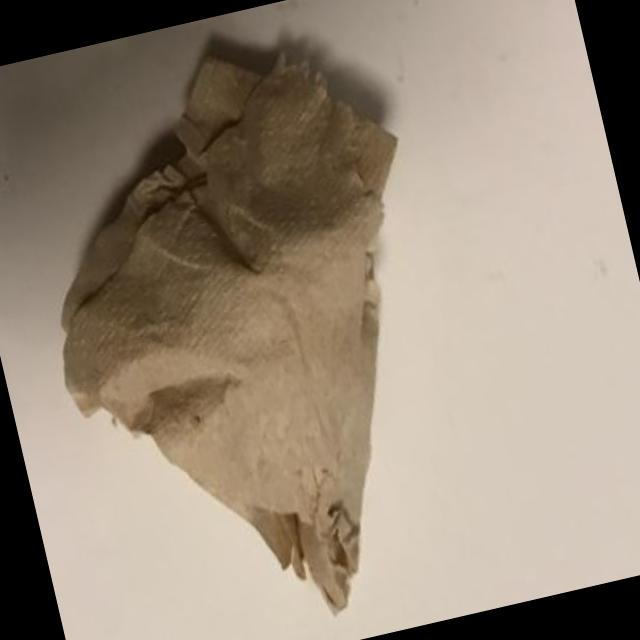giay: (61, 34, 400, 616)
